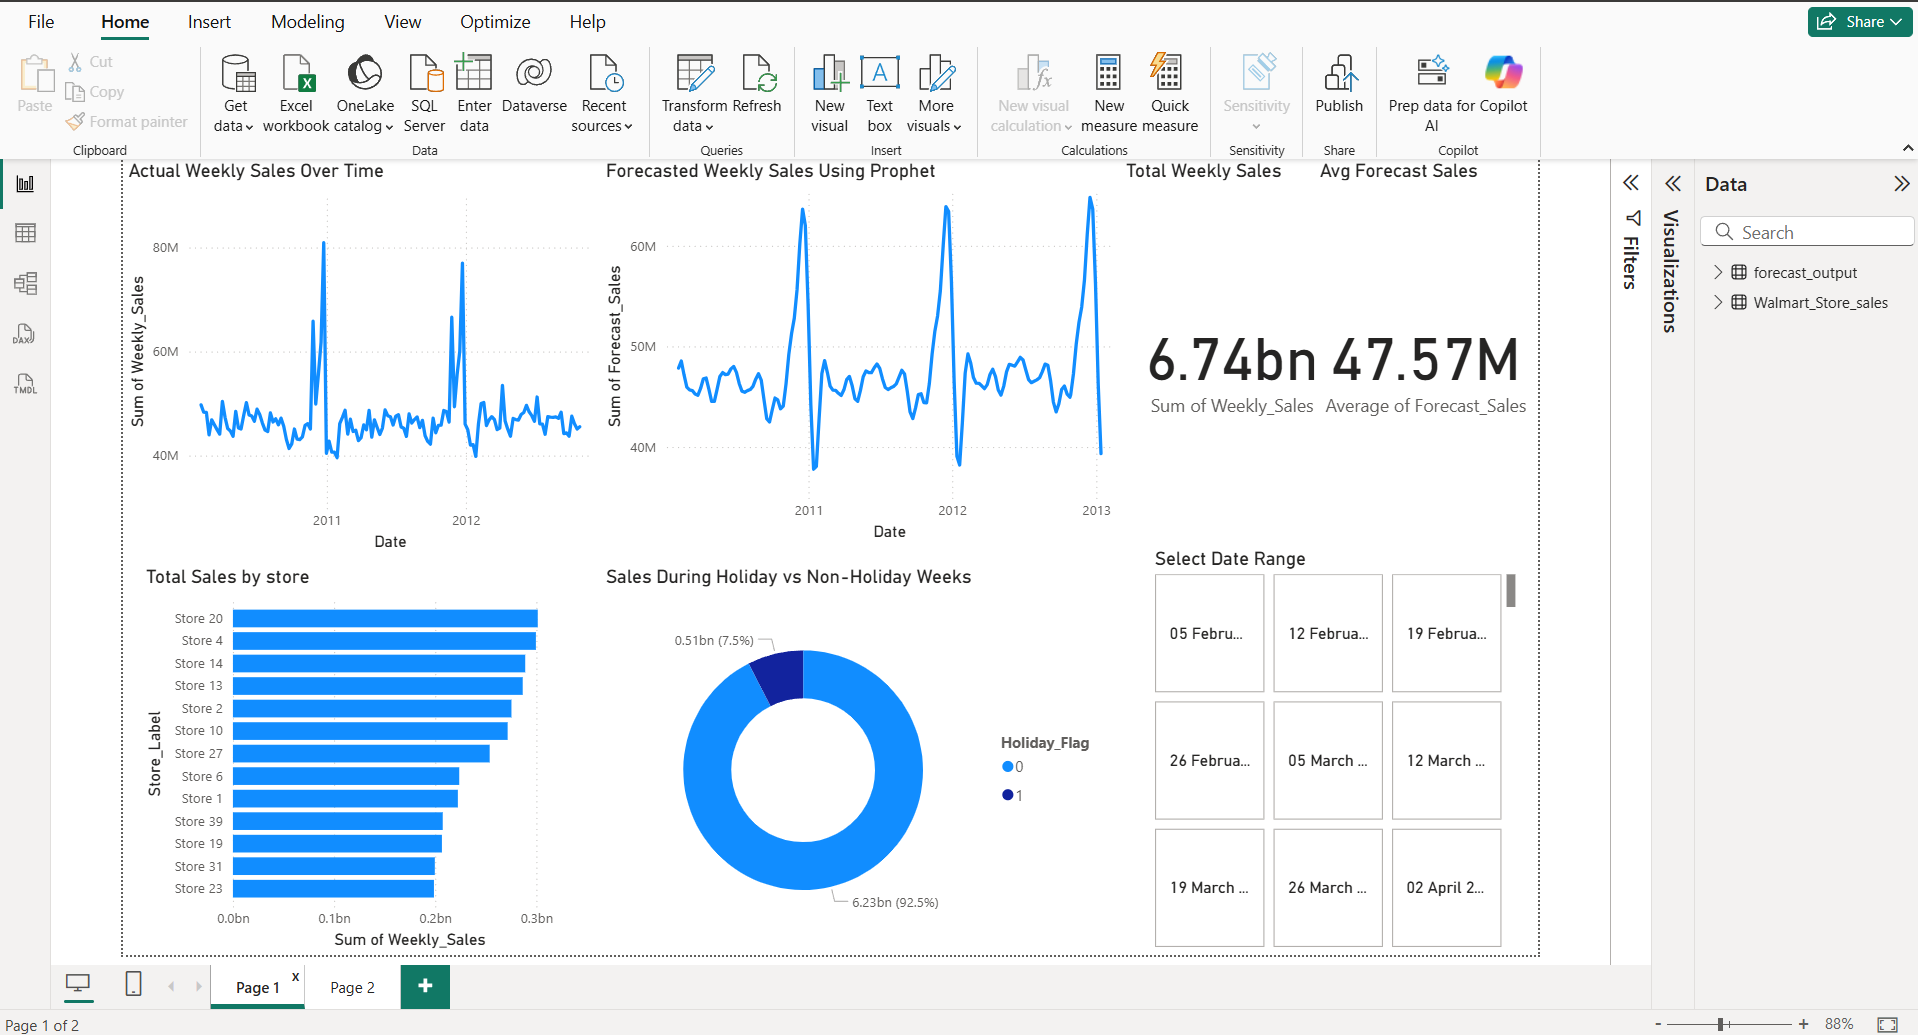

Layout of this report page (visuals, bound fields, positions):
{"tool":"powerbi","page":{"name":"Page 1","canvas":[1280,720],"ordinal":0},"visuals":[{"type":"lineChart","title":"Actual Weekly Sales Over Time","fields":{"Y":["Sum(Walmart_Store_sales.Weekly_Sales)"],"Category":["Walmart_Store_sales.Date"]},"box":[0,0,431.4,359.3],"z":0},{"type":"lineChart","title":"Forecasted Weekly Sales Using Prophet","fields":{"Y":["Sum(forecast_output.Forecast_Sales)"],"Category":["forecast_output.Date"]},"box":[431.4,0,470.9,350],"z":1000},{"type":"clusteredBarChart","title":"Total Sales by store","fields":{"Category":["Walmart_Store_sales.Weekly_Sales"],"Y":["Sum(Walmart_Store_sales.Store)"]},"box":[16,368,432,352],"z":2000},{"type":"donutChart","title":"Sales During Holiday vs Non-Holiday Weeks","fields":{"Category":["Walmart_Store_sales.Holiday_Flag"],"Y":["Sum(Walmart_Store_sales.Weekly_Sales)"]},"box":[432,368,464,352],"z":3000},{"type":"card","title":"Total Weekly Sales","fields":{"Values":["Sum(Walmart_Store_sales.Weekly_Sales)"]},"box":[902.3,0,202.3,350],"z":4000},{"type":"card","title":"Avg Forecast Sales","fields":{"Values":["Avg(forecast_output.Forecast_Sales)"]},"box":[1077.9,0,202.3,350],"z":5000},{"type":"advancedSlicerVisual","title":"Select Date Range","fields":{"Values":["Walmart_Store_sales.Date"]},"box":[928,352,336,368],"z":6000}]}

Visuals, with their boxes on the page's 1280x720 design canvas (x1, y1, x2, y2). These are canvas units, not pixel positions in the 1918x1035 screenshot, which may show the page scaled, cropped or inside an application window:
"Actual Weekly Sales Over Time" lineChart: (0, 0, 431, 359)
"Forecasted Weekly Sales Using Prophet" lineChart: (431, 0, 902, 350)
"Total Sales by store" clusteredBarChart: (16, 368, 448, 720)
"Sales During Holiday vs Non-Holiday Weeks" donutChart: (432, 368, 896, 720)
"Total Weekly Sales" card: (902, 0, 1105, 350)
"Avg Forecast Sales" card: (1078, 0, 1280, 350)
"Select Date Range" advancedSlicerVisual: (928, 352, 1264, 720)
